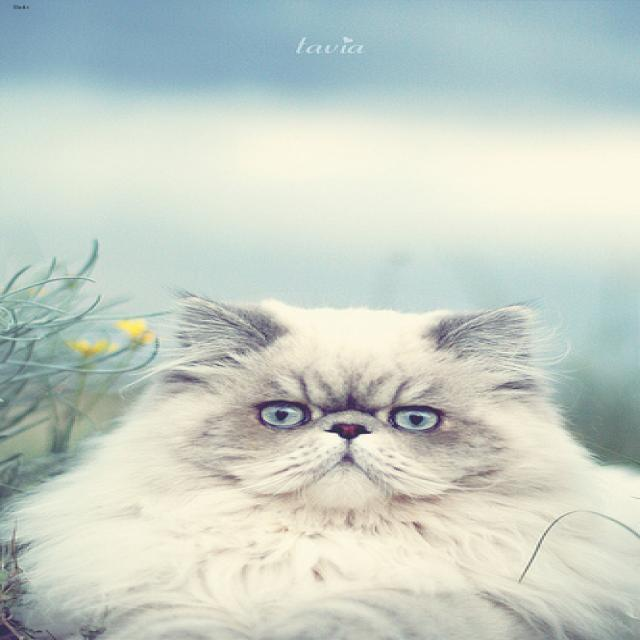Persian: (131, 289, 559, 519)
